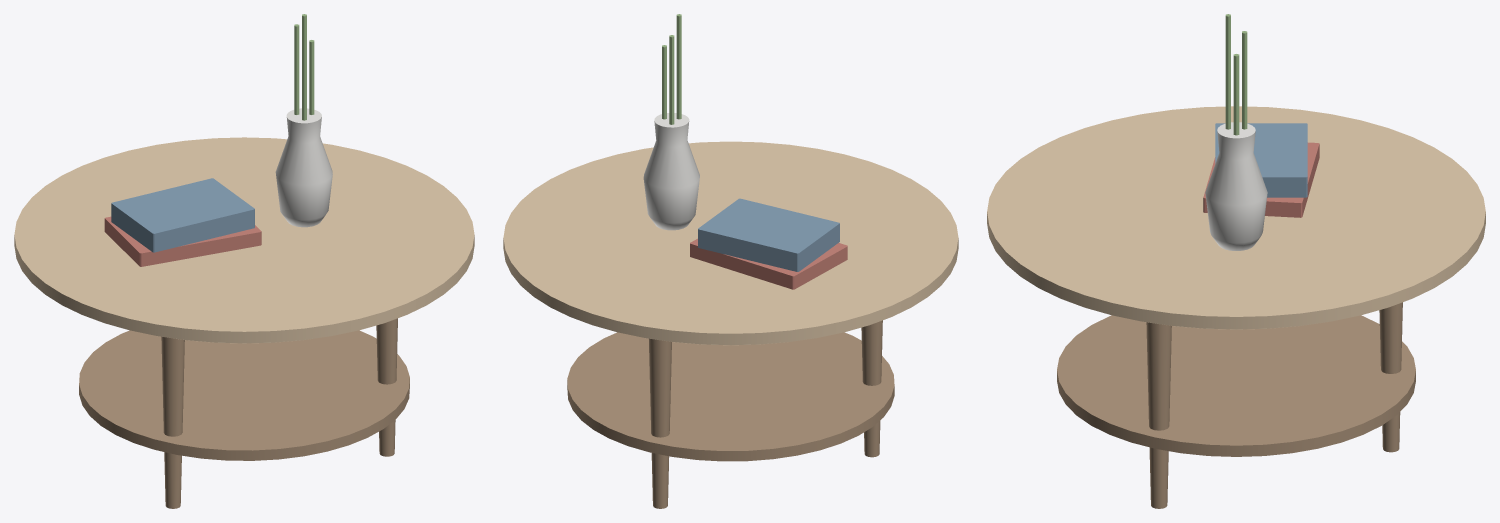
3 renders of one model, left to right at view 1: azimuth 30°, elevation 25°; view 2: azimuth 150°, elevation 25°; view 3: azimuth 270°, elevation 25°, orthographic. The views are drawn at different scales.
Visible parts, largest first — view 1: Bàn trà tròn; view 2: Bàn trà tròn; view 3: Bàn trà tròn.
Boxes of the visible parts, x1,y1,x2,y2 form: Bàn trà tròn: (14, 14, 474, 508); Bàn trà tròn: (503, 14, 958, 508); Bàn trà tròn: (987, 14, 1485, 508).
Size of the model in its own units: 0.8 by 0.82 by 0.8.
